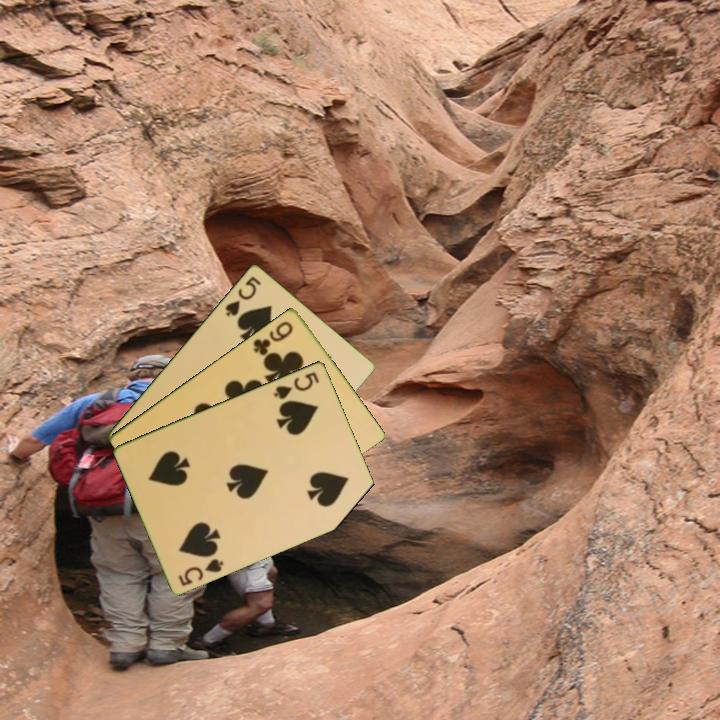5s: (221, 272, 264, 319), (175, 554, 227, 589), (270, 368, 322, 402)
9c: (249, 317, 296, 358)
